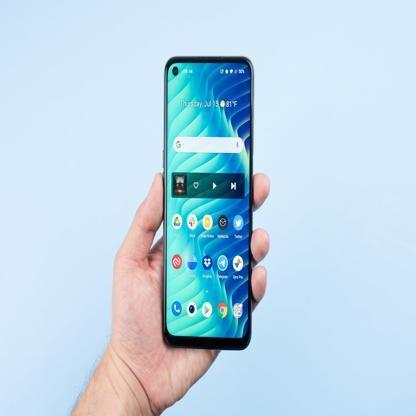not trash: (160, 48, 251, 349)
